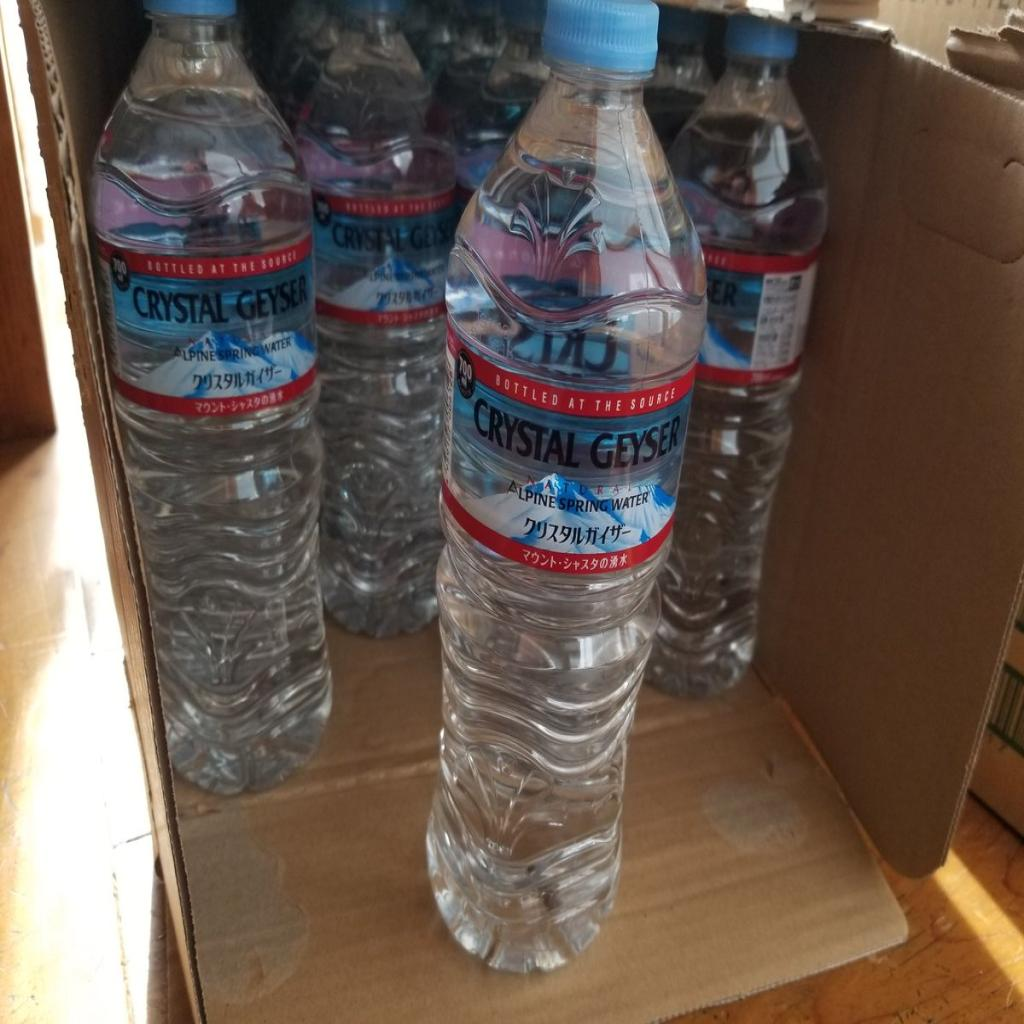organico: (412, 1, 725, 979), (113, 24, 393, 830), (647, 3, 837, 720), (288, 0, 482, 641)
